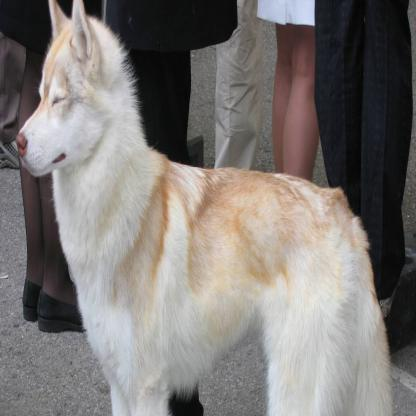husky: (17, 2, 388, 416)
